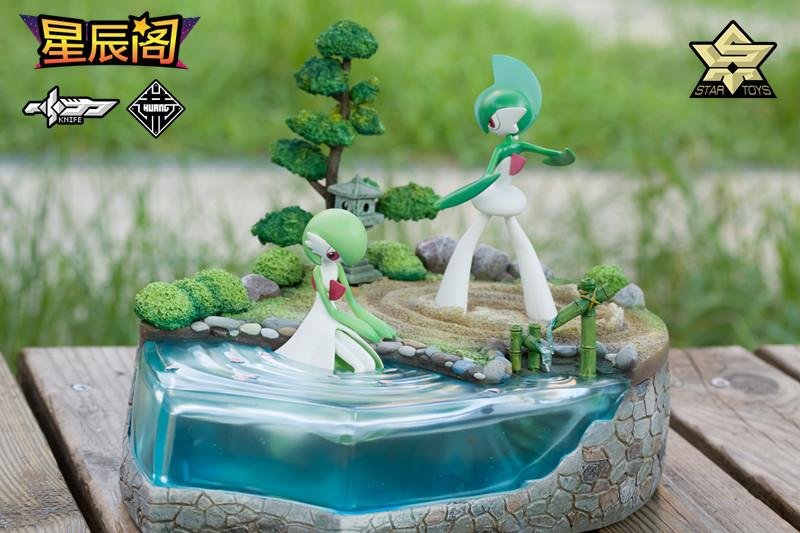gardevoir: (255, 216, 394, 379)
